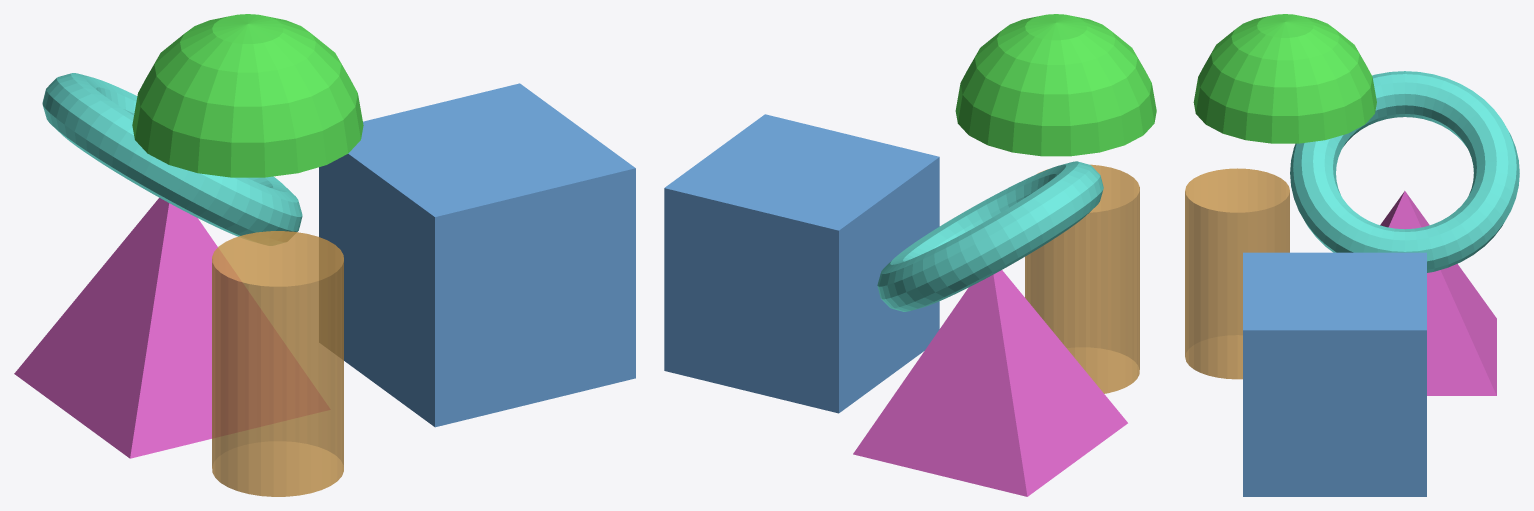
The model's file is background.glb.
3 views of the same model, side by side, from view 1: azimuth 30°, elevation 25°; view 2: azimuth 150°, elevation 25°; view 3: azimuth 270°, elevation 25° (orthographic). The views are drawn at different scales.
Parts seen in each view (by area): view 1: Cube.001, pyramid, Cylinder, Sphere, Torus; view 2: Cube.001, pyramid, Sphere, Cylinder, Torus; view 3: Cube.001, Torus, Sphere, Cylinder, pyramid.
Part boxes in pixels (<box>): Cube.001: <box>319,83,635,427</box>; pyramid: <box>14,198,329,458</box>; Cylinder: <box>212,231,343,496</box>; Sphere: <box>132,14,363,177</box>; Torus: <box>42,73,302,245</box>; Cube.001: <box>664,114,939,413</box>; pyramid: <box>853,270,1127,496</box>; Sphere: <box>955,14,1156,156</box>; Cylinder: <box>1025,164,1139,393</box>; Torus: <box>877,161,1103,311</box>; Cube.001: <box>1243,252,1426,496</box>; Torus: <box>1290,71,1519,272</box>; Sphere: <box>1193,14,1376,143</box>; Cylinder: <box>1185,168,1289,379</box>; pyramid: <box>1380,191,1496,395</box>.
Size of the model in its own units: 4.67 by 4.03 by 3.64.
